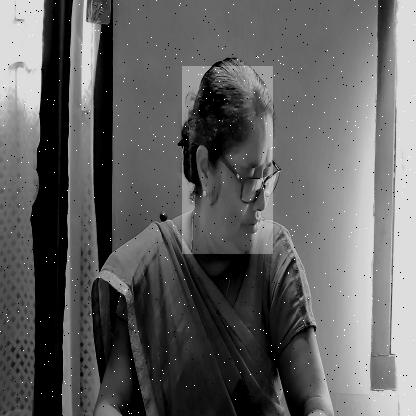Distracted: (182, 66, 273, 254)
